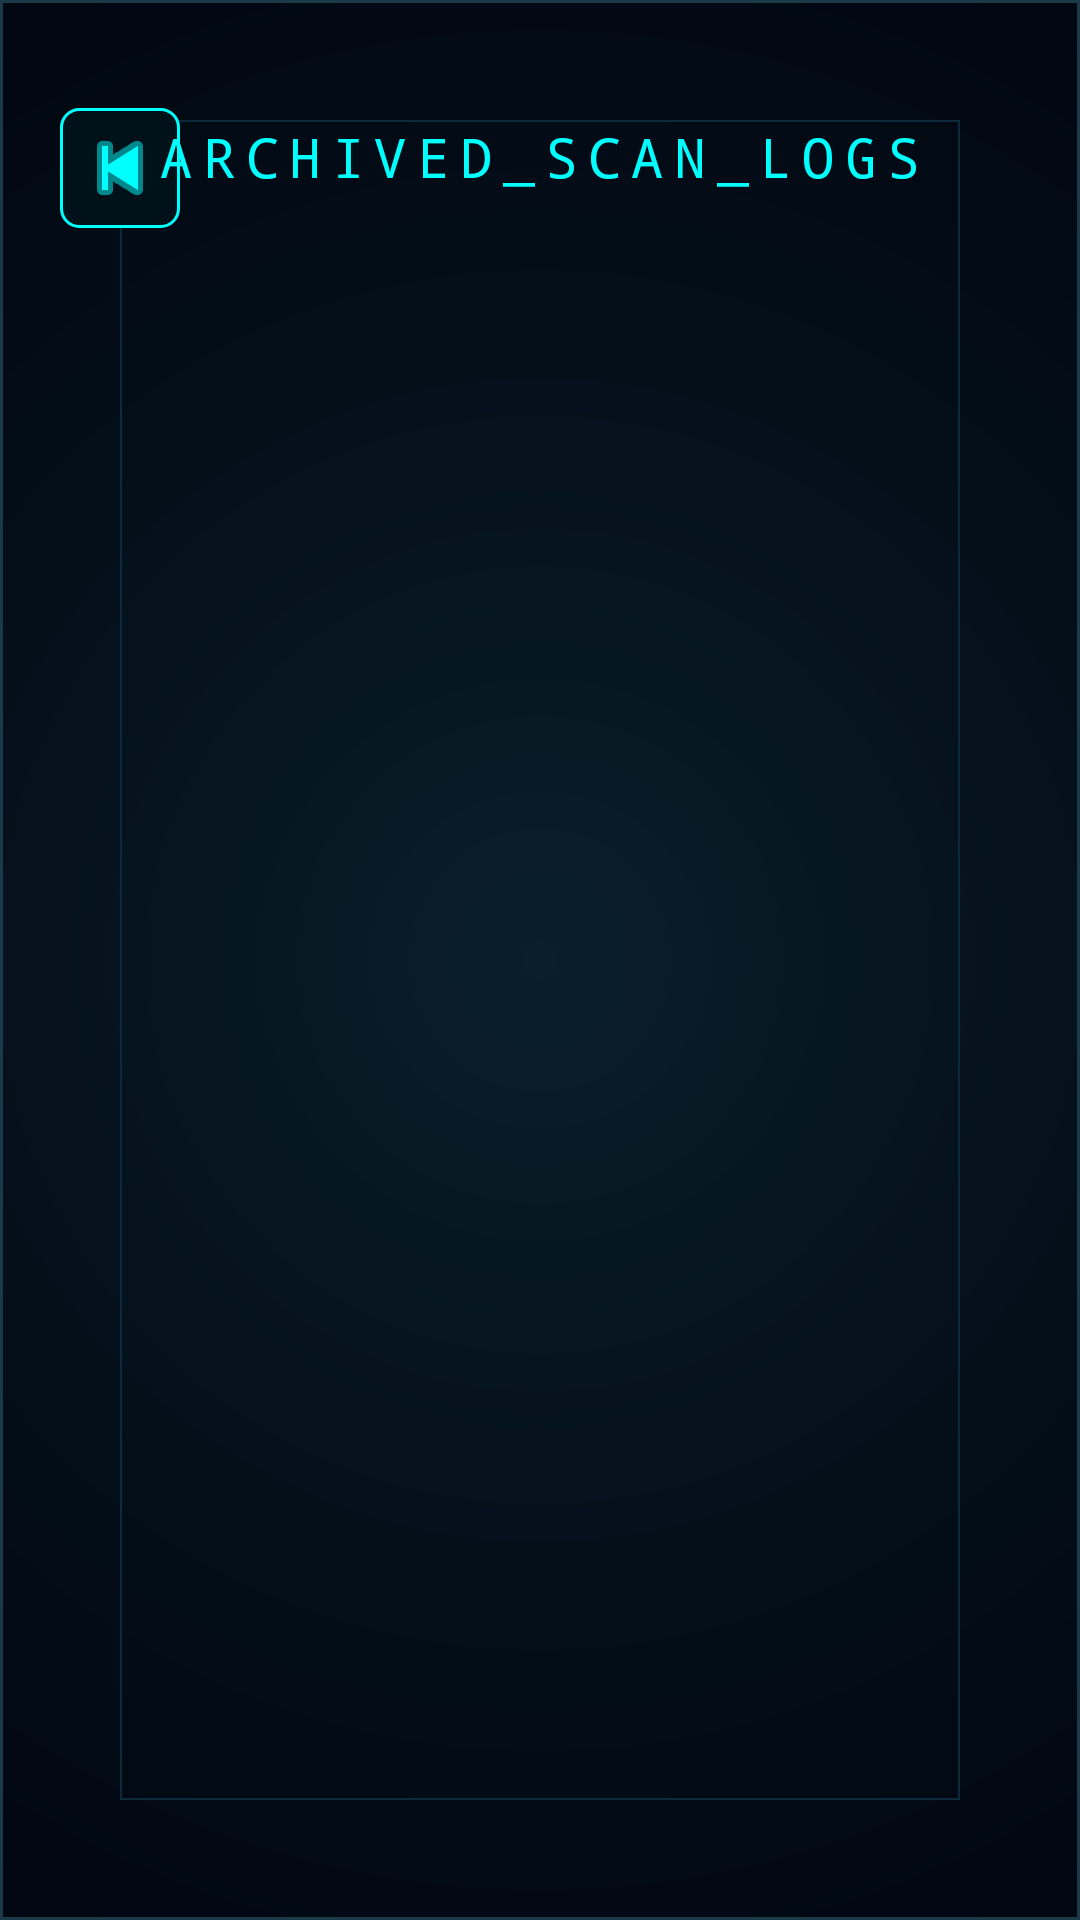

Icons on this 1080px x 1920px Android screen, each with the point to tap as [x,y]:
previous: [120,168]
